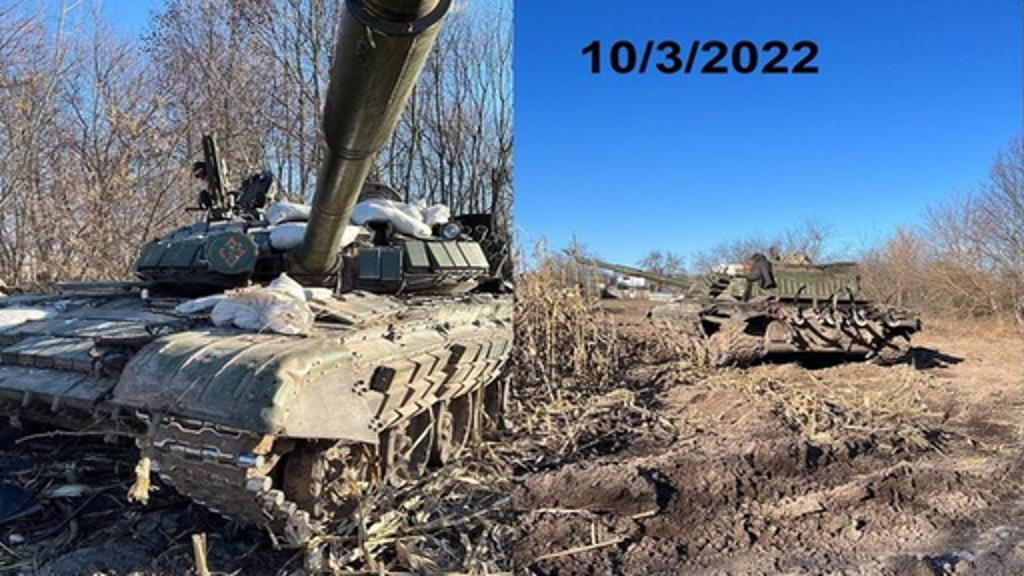TANK: (0, 0, 512, 546), (574, 248, 924, 380)
